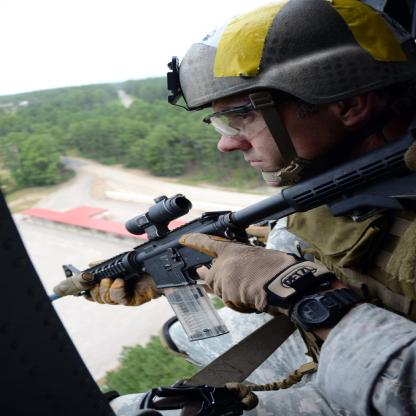Helmet: (185, 0, 397, 172)
